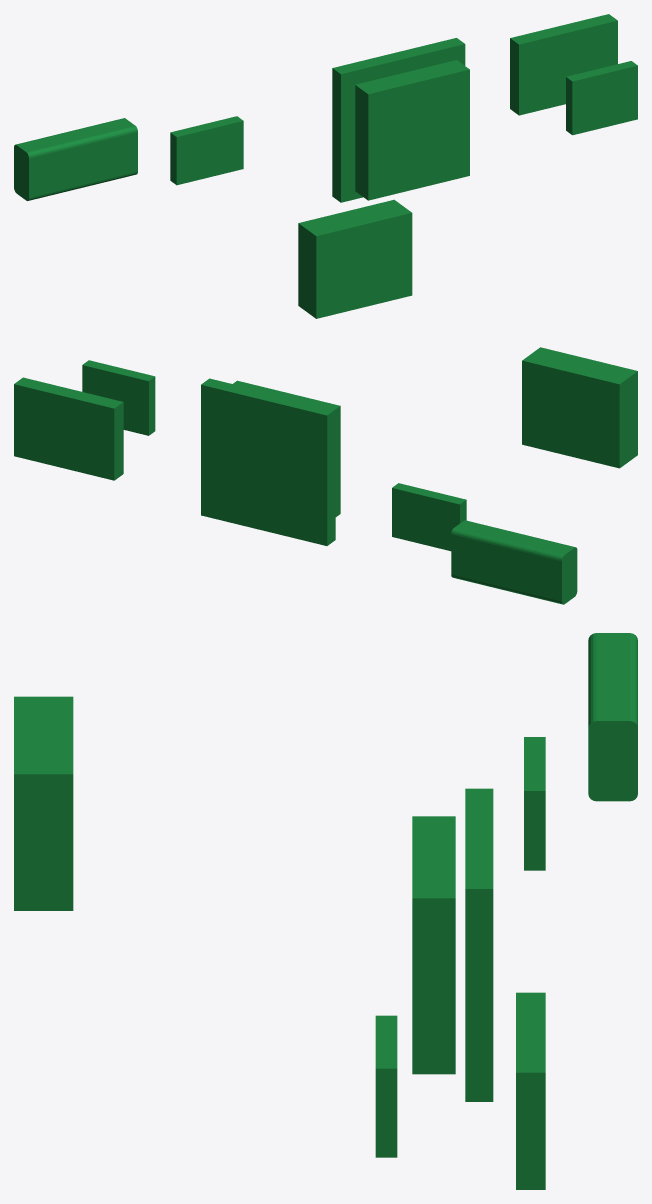
Rendered from electronics.obj.
3 views of the same model, one above another, from view 1: azimuth 30°, elevation 25°; view 2: azimuth 150°, elevation 25°; view 3: azimuth 270°, elevation 25° (orthographic). The views are drawn at different scales.
Bounding box in the file's own units: 201 × 43.5 × 116.
